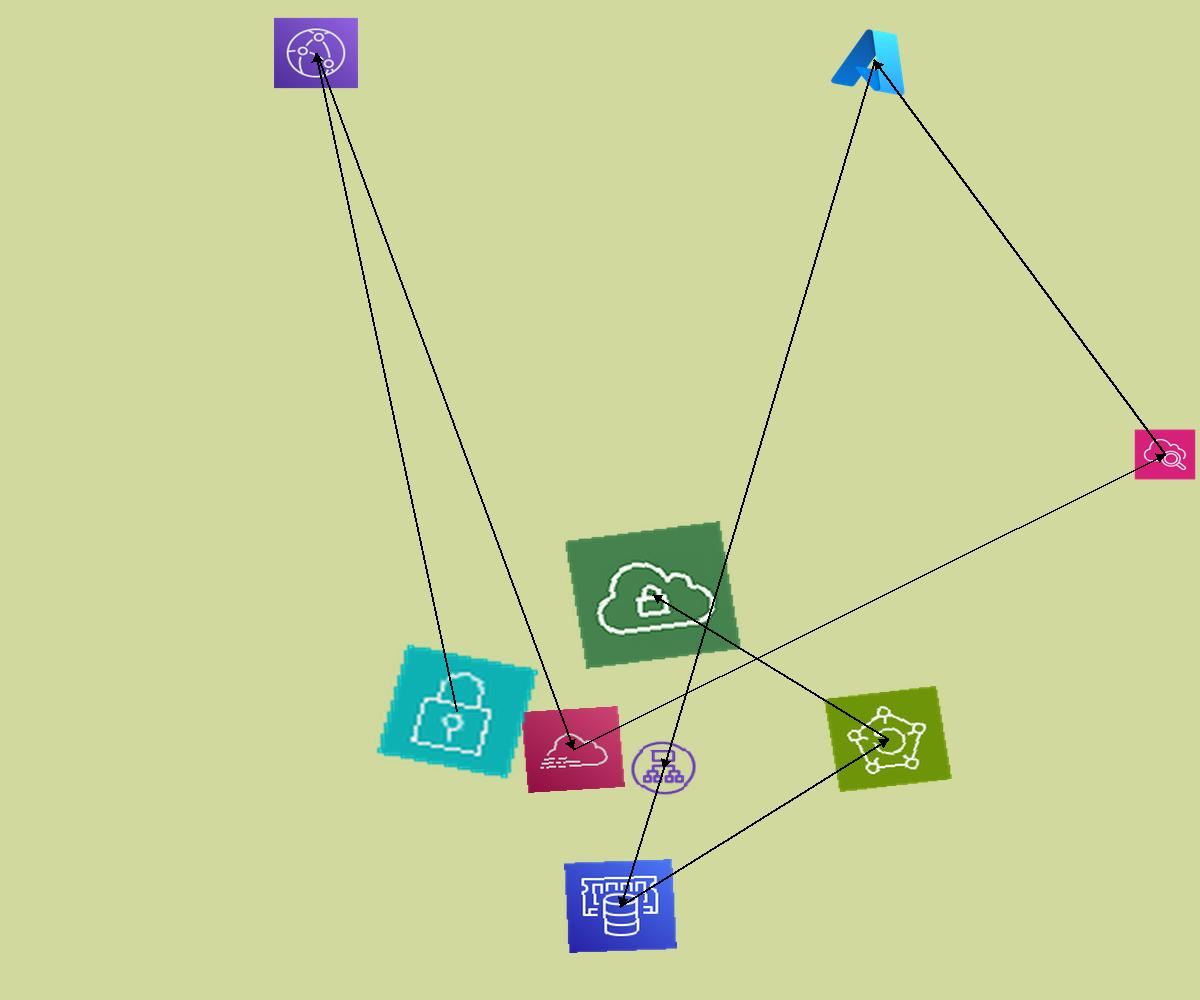AWS-Backup: (823, 685, 953, 793)
AWS-CloudFront: (273, 17, 359, 89)
AWS-CloudTrail: (521, 706, 625, 793)
AWS-CloudWatch: (1134, 429, 1196, 480)
AWS-ElastiCache: (564, 859, 677, 953)
AWS-Private-subnet: (374, 642, 541, 781)
AWS-Private_vpc: (564, 521, 742, 669)
AWS-Res_Elastic-Load-Balancing_Application-Load-Balancer: (627, 738, 700, 798)
Azure_services: (826, 20, 923, 101)
